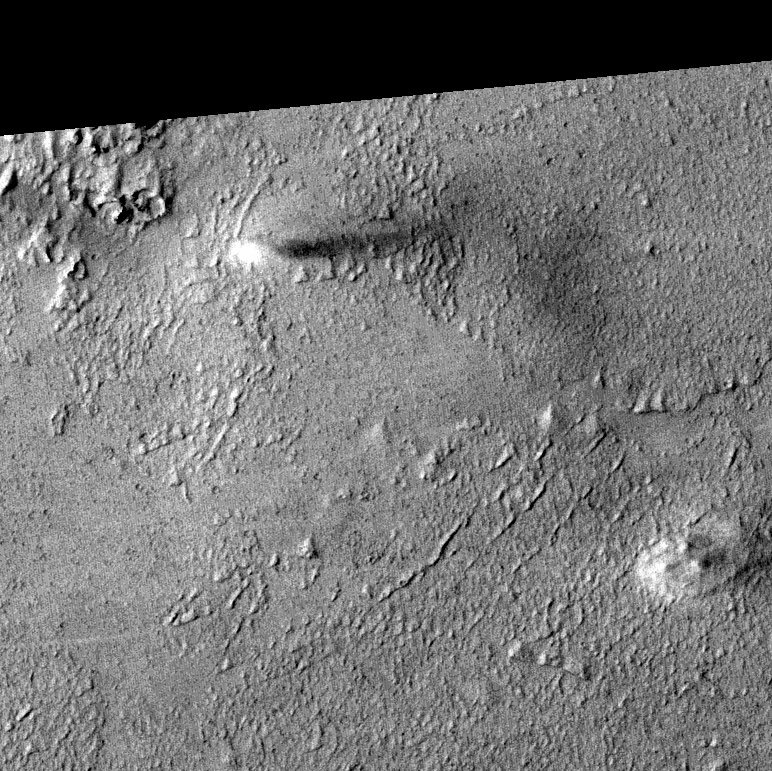dust_devil: (631, 498, 772, 602), (226, 217, 452, 273)
